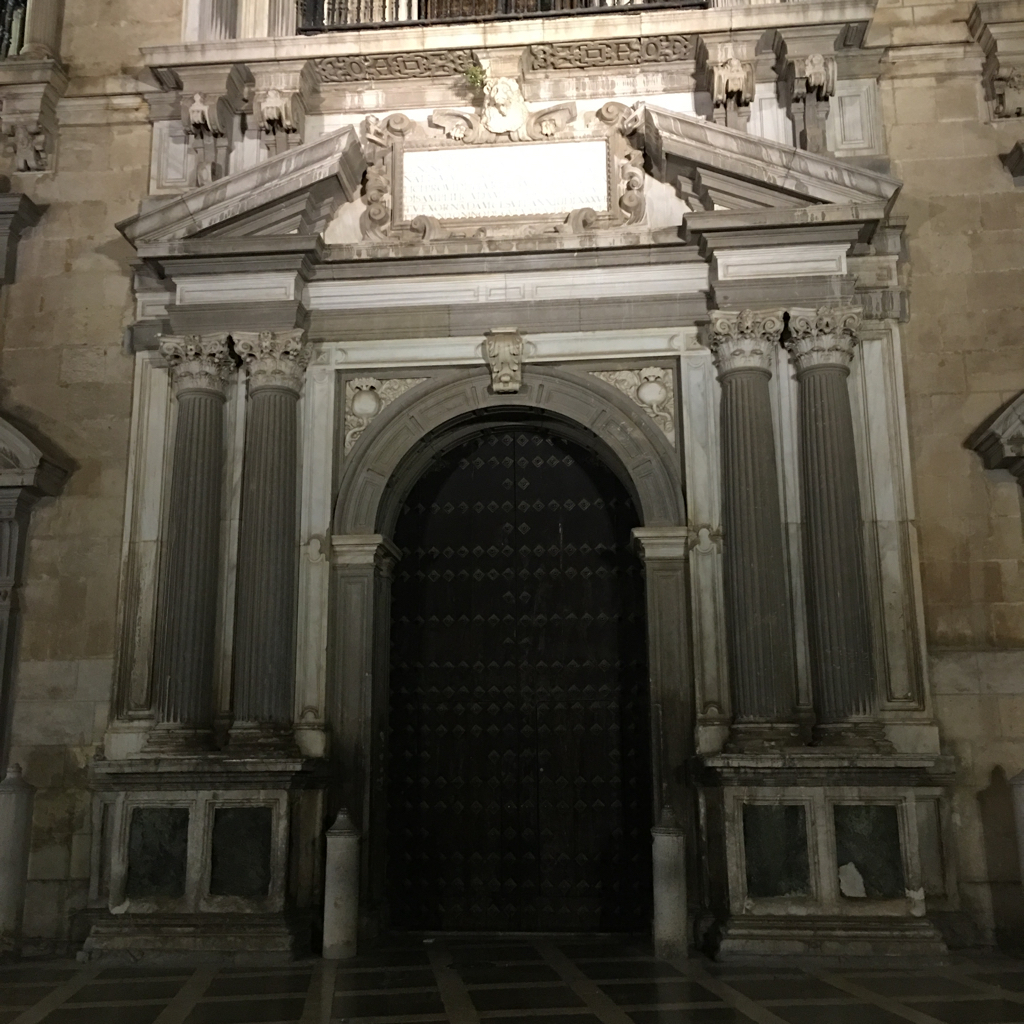arco-medio-punto: (360, 396, 663, 600)
fronton-partido: (107, 104, 907, 263)
